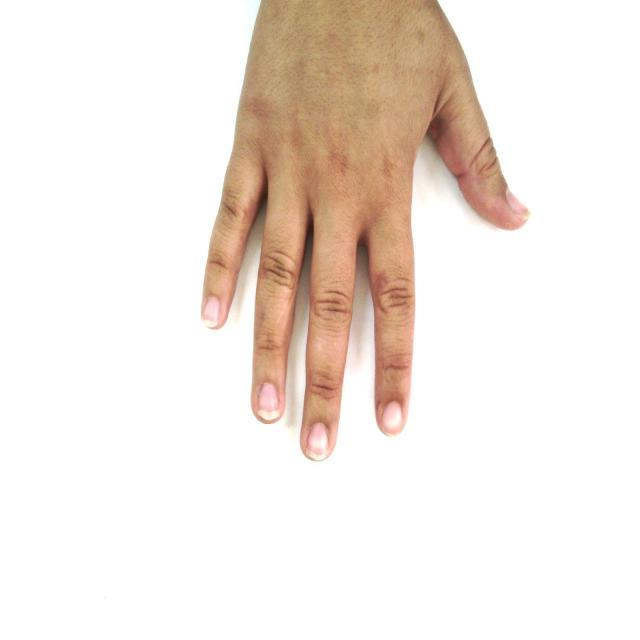Fingernail: (306, 422, 329, 461), (259, 383, 281, 421), (382, 402, 402, 433), (506, 191, 530, 216), (204, 297, 220, 327)
